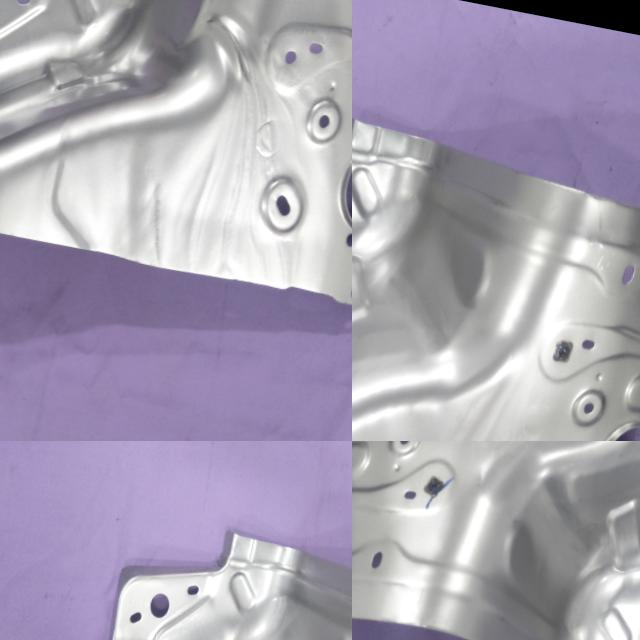Healthy: (352, 70, 640, 441), (352, 441, 640, 640), (10, 496, 352, 640)
